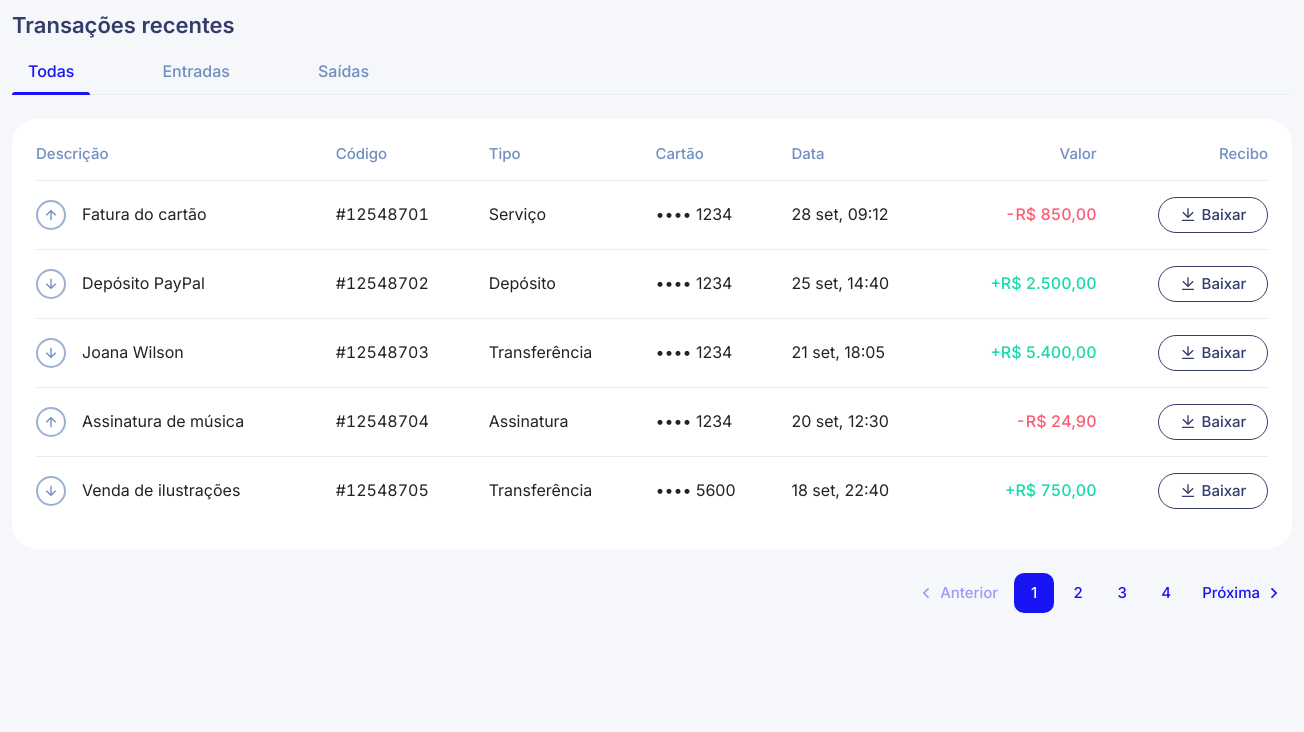
a página 2 traz as cinco seguintes
Click the button named "Página 2" at (1078, 593), box [1058,573,1098,613]
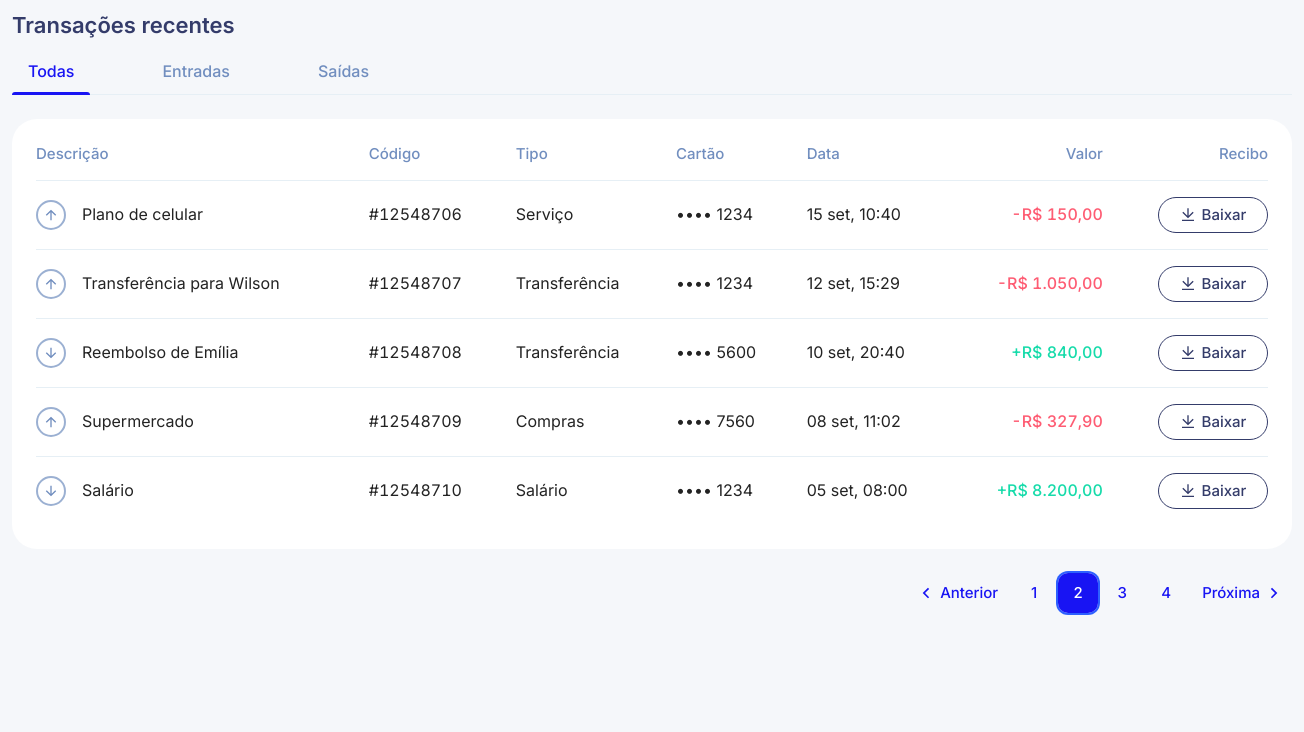
Check: the text "Plano de celular" is shown, box [36,200,203,230]
